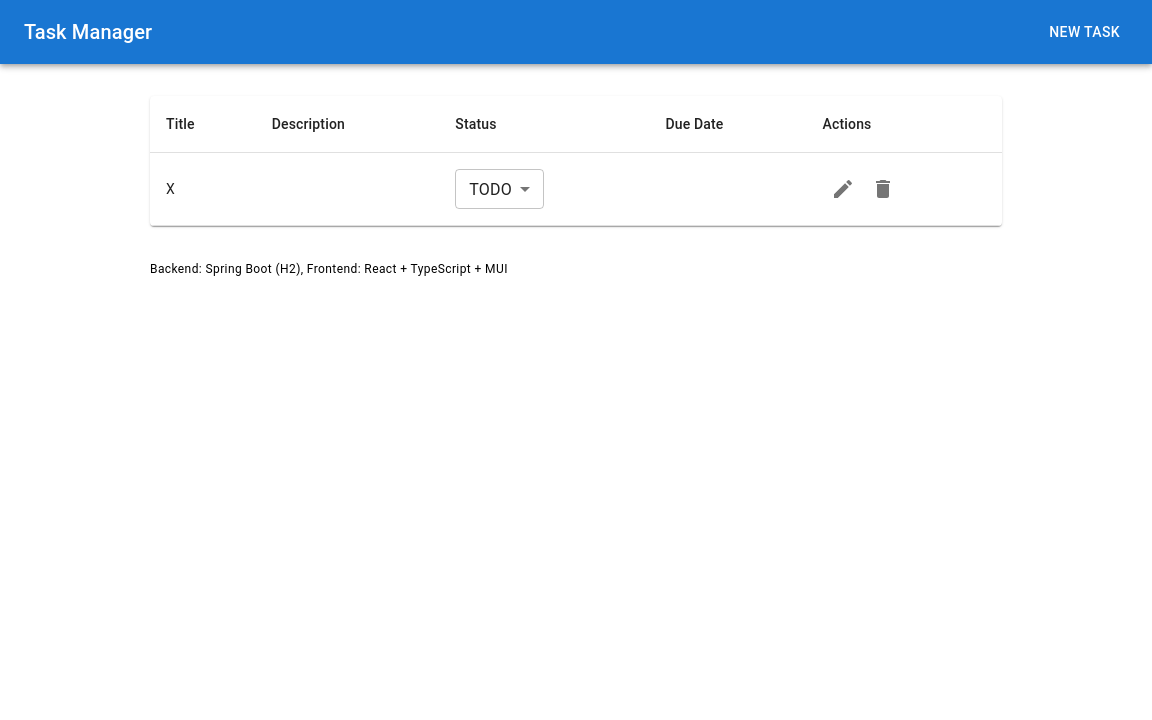
Test: App loads tasks and allows create/delete (mocked API)
Expected: the text "X" is shown, [150,152,256,226]
Note: Open new task dialog
Click the button "New Task": [1085, 32] box [1041,14,1128,50]
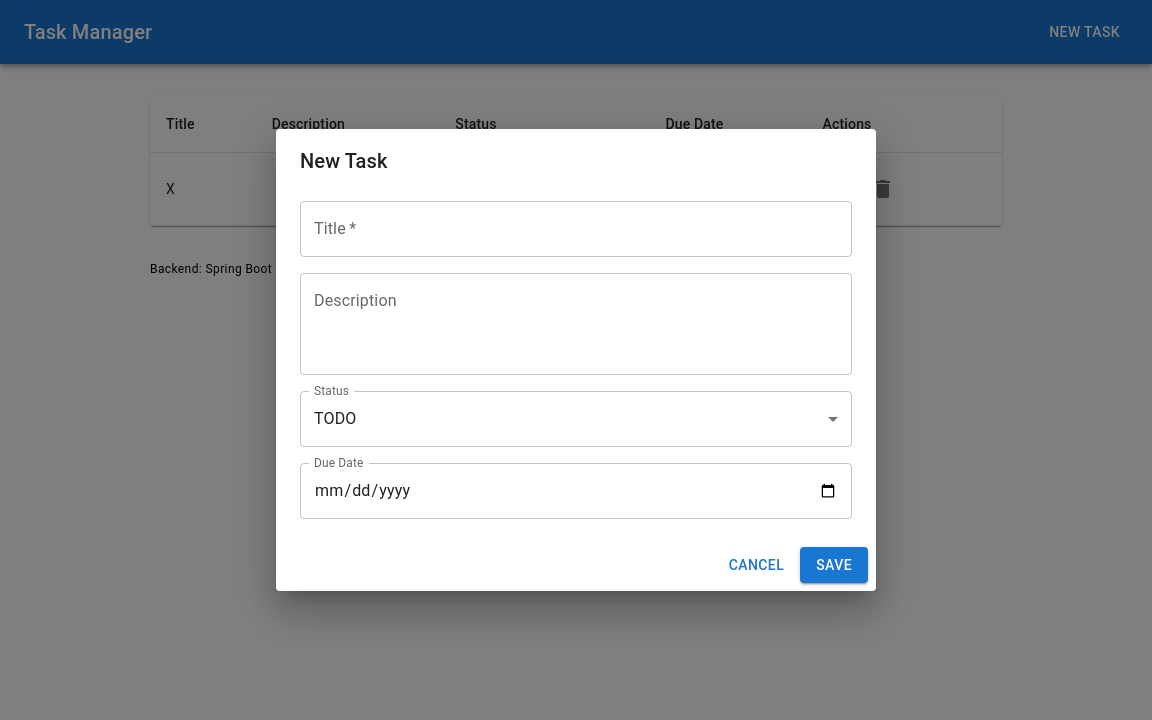
In the field labelled "Title *": [576, 229] box [300,201,852,257], type "Created"
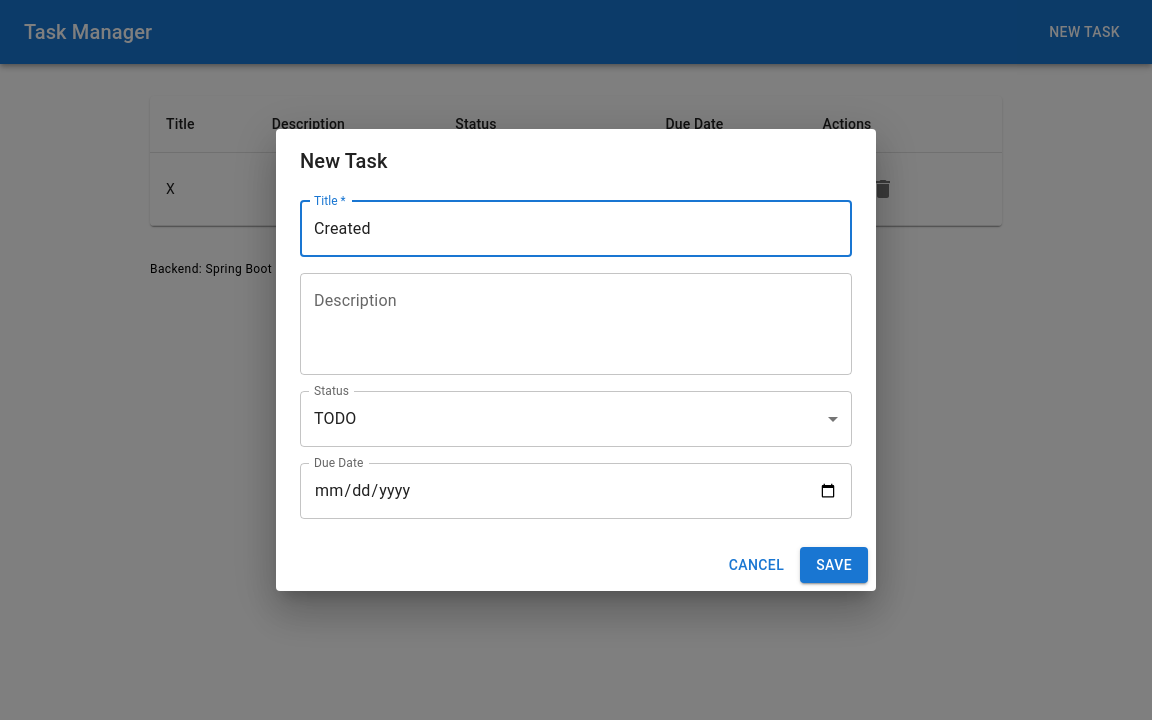
Click the button "Save": [834, 565] box [800,547,868,583]
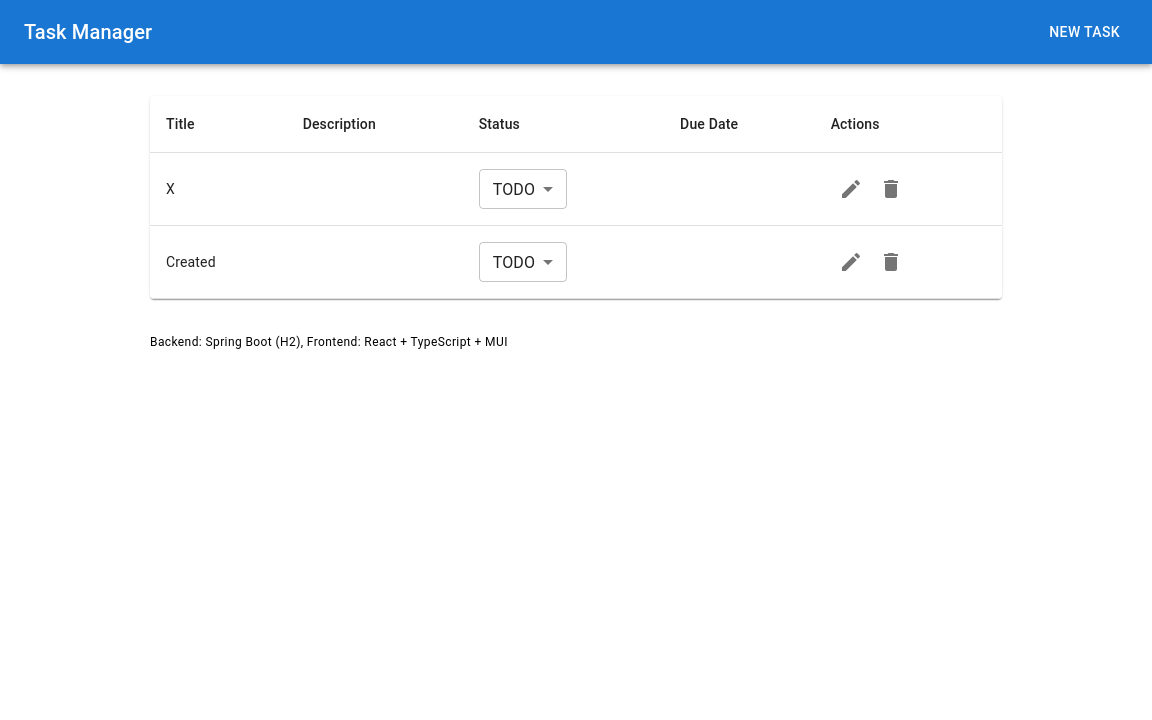
Expected: the text "Created" is shown, [150,226,287,298]
Note: assume last is for the created one
Click the button named "delete" in the row of "Created": [891, 262] box [871,242,911,282]
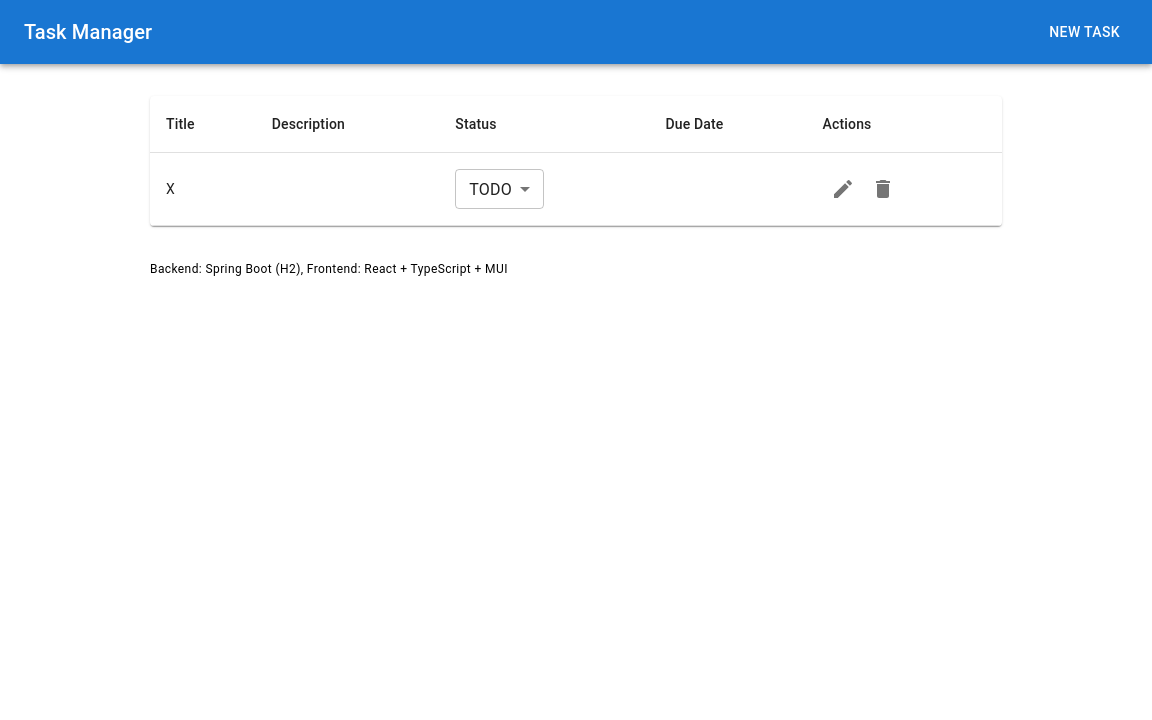
Expected: the text "Created" is gone
